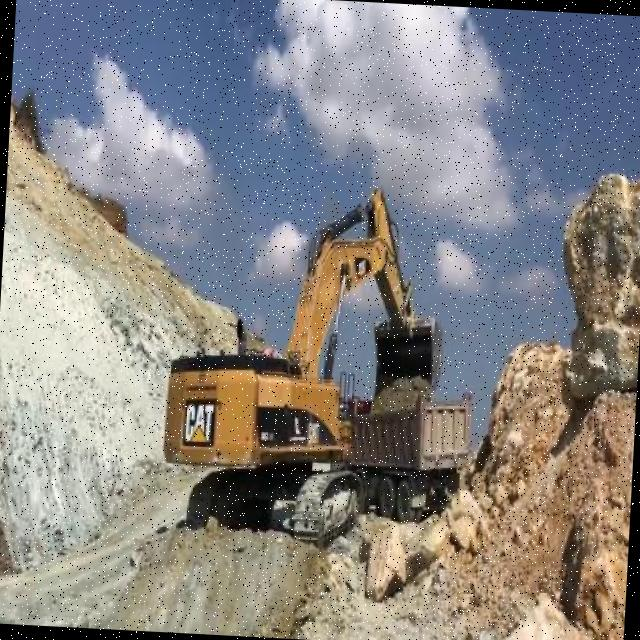Dump Truck: (356, 390, 474, 522)
Excavator: (154, 168, 457, 550)
